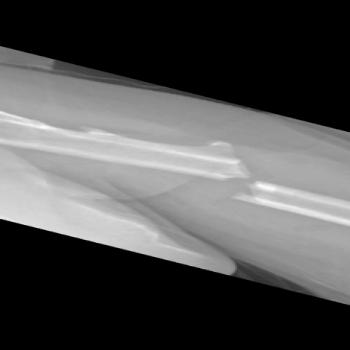Fracture: (204, 156, 276, 210)
